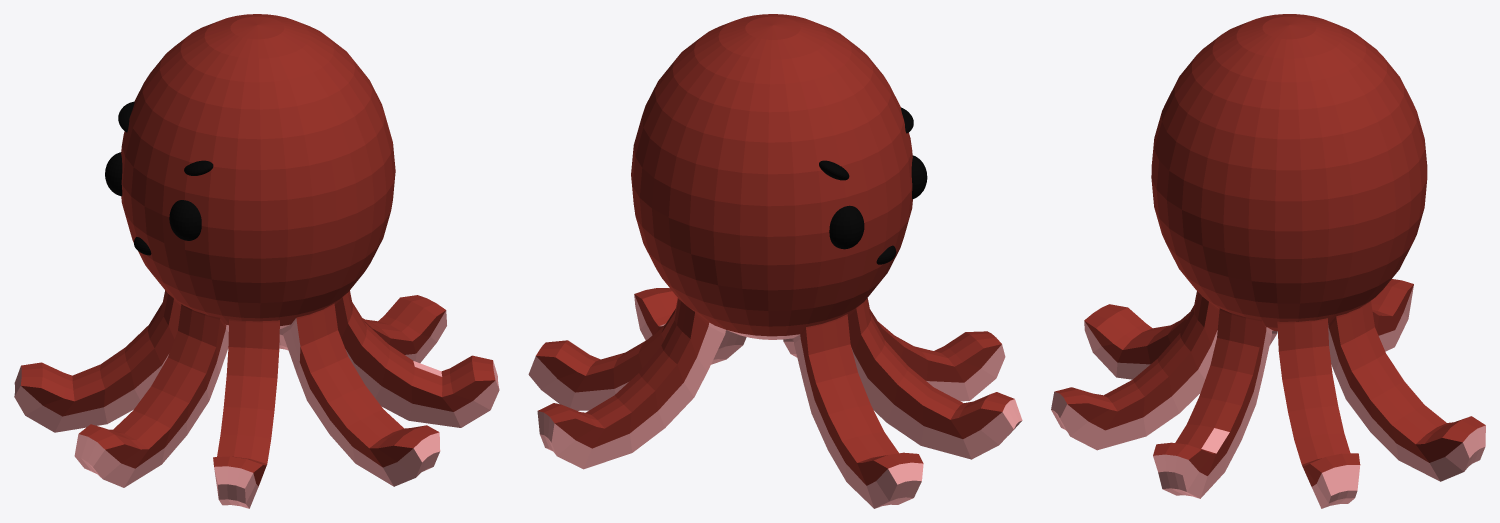
File: set_red_octboy.glb
3 renders of one model, left to right at view 1: azimuth 30°, elevation 25°; view 2: azimuth 150°, elevation 25°; view 3: azimuth 270°, elevation 25°, orthographic. The views are drawn at different scales.
Visible parts, largest first — view 1: red oct; view 2: red oct; view 3: red oct.
Boxes of the visible parts, x1,y1,x2,y2 form: red oct: (14,14,499,508); red oct: (528,14,1022,508); red oct: (1051,14,1485,508).
Bounding box in the file's own units: 3.9 × 3.54 × 3.5.
